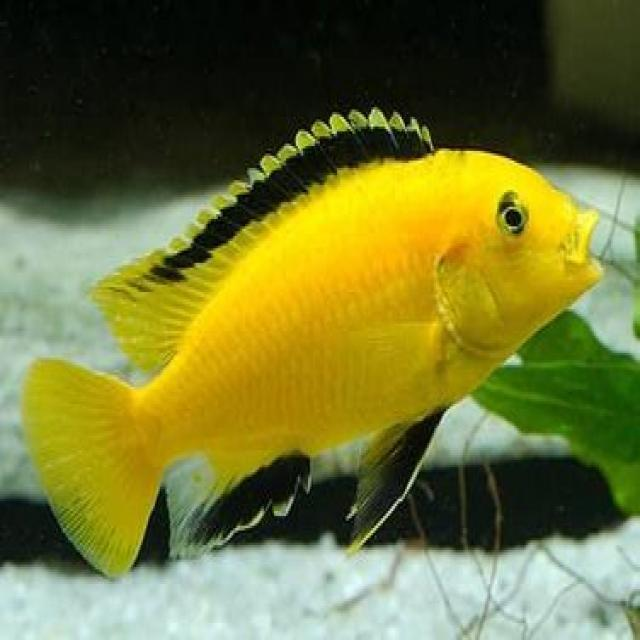YellowCichlid: (10, 95, 638, 590)
